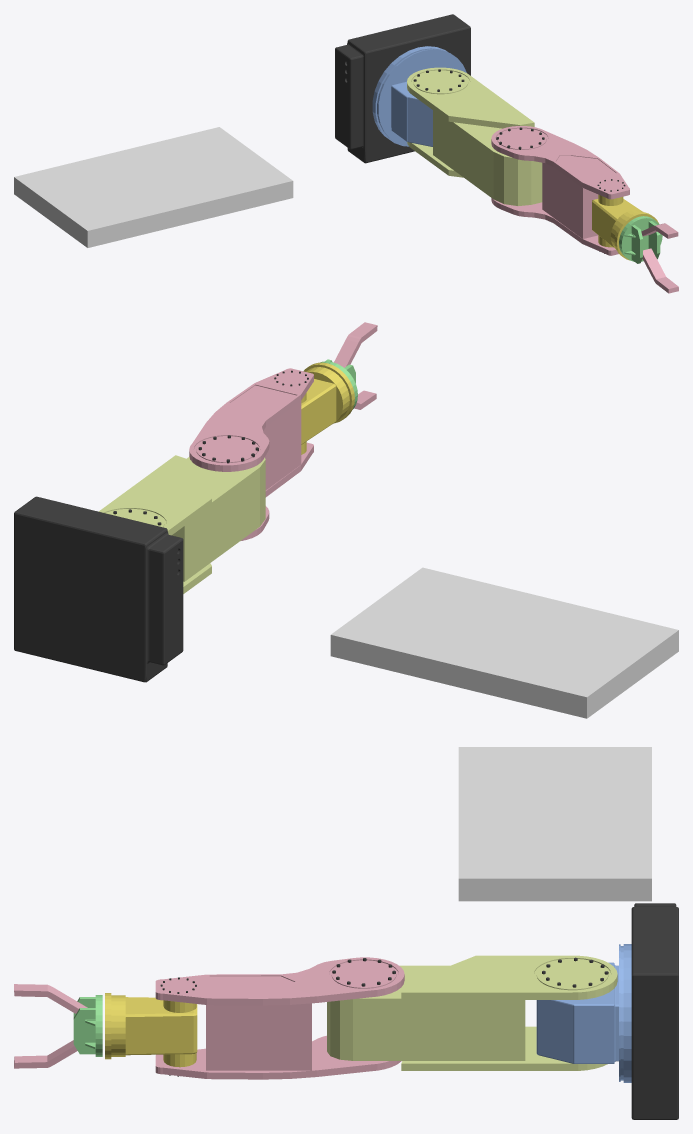
Rendered from robot_with_animation.glb.
The picture shows the model from 3 angles, top to bottom: view 1: azimuth 30°, elevation 25°; view 2: azimuth 150°, elevation 25°; view 3: azimuth 270°, elevation 25°; orthographic projection. The views are drawn at different scales.
Visible parts, largest first — view 1: Cube.003, robot_base, Plane.001, robot_link3_mesh, robot_link2_mesh, robot_link_1, Cube.001, Cube, Cube.002, Cylinder.001, hand_l; view 2: Cube.003, robot_base, robot_link3_mesh, Plane.001, robot_link2_mesh, Cube.002, Cube.001, hand_r; view 3: Cube.003, Plane.001, robot_link3_mesh, robot_link2_mesh, robot_base, Cube.001, Cube, Cube.002, robot_link_1, Plane.005, hand_r, hand_l (+1 smaller).
Boxes of the visible parts, bbox=[...] form: Cube.003: bbox=[14, 127, 293, 247]; robot_base: bbox=[335, 14, 470, 163]; Plane.001: bbox=[433, 110, 542, 205]; robot_link3_mesh: bbox=[491, 126, 629, 255]; robot_link2_mesh: bbox=[407, 67, 534, 177]; robot_link_1: bbox=[372, 46, 466, 146]; Cube.001: bbox=[542, 162, 598, 238]; Cube: bbox=[391, 81, 432, 146]; Cube.002: bbox=[592, 199, 658, 260]; Cylinder.001: bbox=[619, 216, 662, 261]; hand_l: bbox=[642, 248, 678, 293]; Cube.003: bbox=[330, 567, 678, 718]; robot_base: bbox=[14, 496, 183, 682]; robot_link3_mesh: bbox=[189, 368, 313, 540]; Plane.001: bbox=[172, 457, 265, 581]; robot_link2_mesh: bbox=[99, 455, 211, 593]; Cube.002: bbox=[301, 362, 354, 444]; Cube.001: bbox=[263, 401, 301, 490]; hand_r: bbox=[334, 322, 377, 367]; Cube.003: bbox=[458, 747, 651, 901]; Plane.001: bbox=[327, 965, 525, 1060]; robot_link3_mesh: bbox=[155, 957, 404, 1079]; robot_link2_mesh: bbox=[401, 955, 617, 1070]; robot_base: bbox=[631, 903, 678, 1119]; Cube.001: bbox=[206, 1003, 311, 1070]; Cube: bbox=[536, 962, 618, 1063]; Cube.002: bbox=[105, 993, 197, 1059]; robot_link_1: bbox=[619, 944, 631, 1082]; Plane.005: bbox=[73, 1008, 95, 1054]; hand_r: bbox=[14, 984, 87, 1013]; hand_l: bbox=[14, 1040, 77, 1068].
Size of the model in its own units: 4.69 by 1.11 by 4.58.
